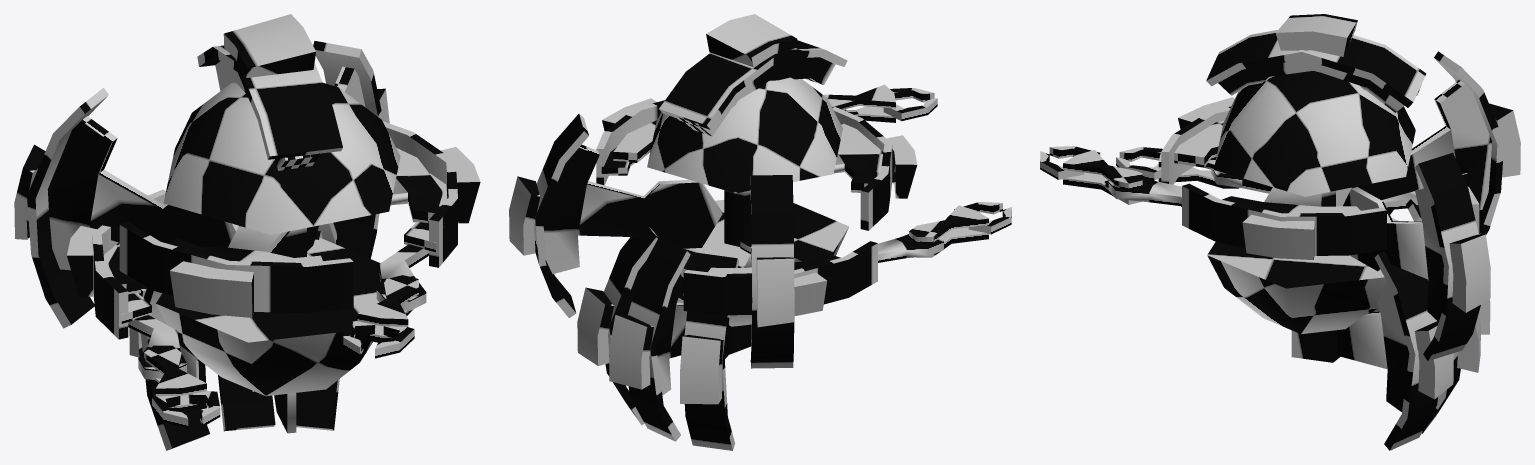
File: repair_robot_tech.obj
3 views of the same model, side by side, from view 1: azimuth 30°, elevation 25°; view 2: azimuth 150°, elevation 25°; view 3: azimuth 270°, elevation 25° (orthographic). The views are drawn at different scales.
Parts seen in each view (by area): view 1: lowpoly; view 2: lowpoly; view 3: lowpoly.
Part boxes in pixels (x1,y1,x2,y2): lowpoly: (14,14,480,450); lowpoly: (509,14,1011,450); lowpoly: (1040,14,1520,450).
Size of the model in its own units: 29.98 by 31.26 by 35.1.
Materials: 1 (1 with a texture image).
